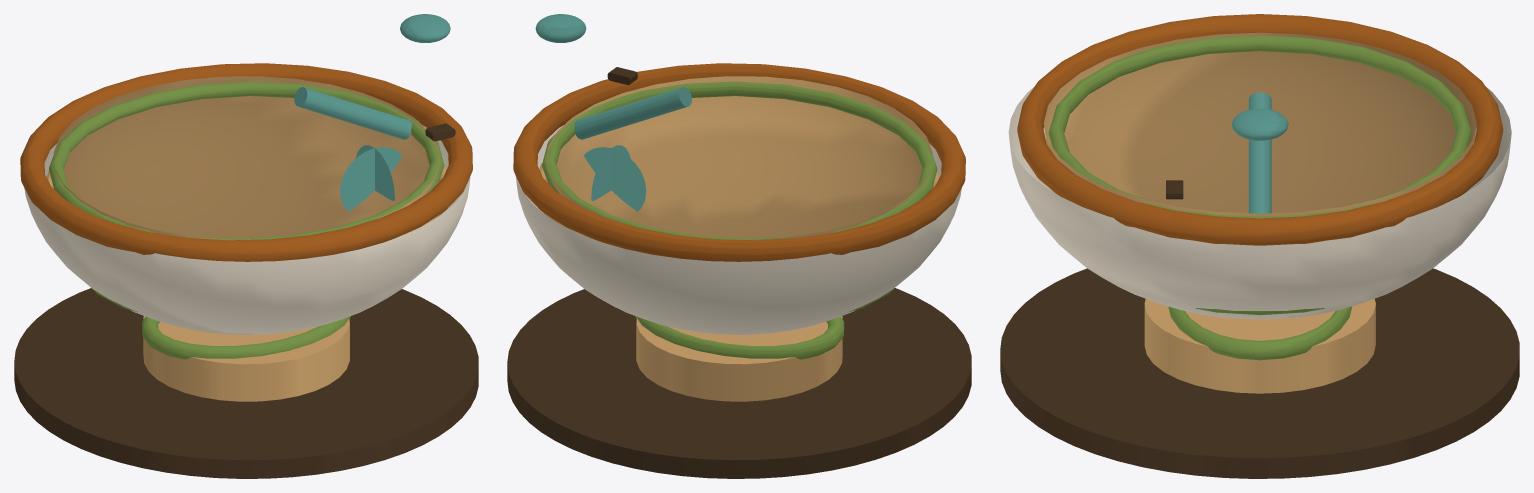
File: 0257_世界古代文明图鉴_胡夫金字塔.glb
3 renders of one model, left to right at view 1: azimuth 30°, elevation 25°; view 2: azimuth 150°, elevation 25°; view 3: azimuth 270°, elevation 25°, orthographic. The views are drawn at different scales.
Visible parts, largest first — view 1: card_0257; view 2: card_0257; view 3: card_0257.
Part boxes in pixels (x1=…): card_0257: x1=14, y1=14, x2=478, y2=478; card_0257: x1=507, y1=14, x2=971, y2=478; card_0257: x1=1000, y1=14, x2=1519, y2=478.
Size of the model in its own units: 1.32 by 1 by 1.33.
